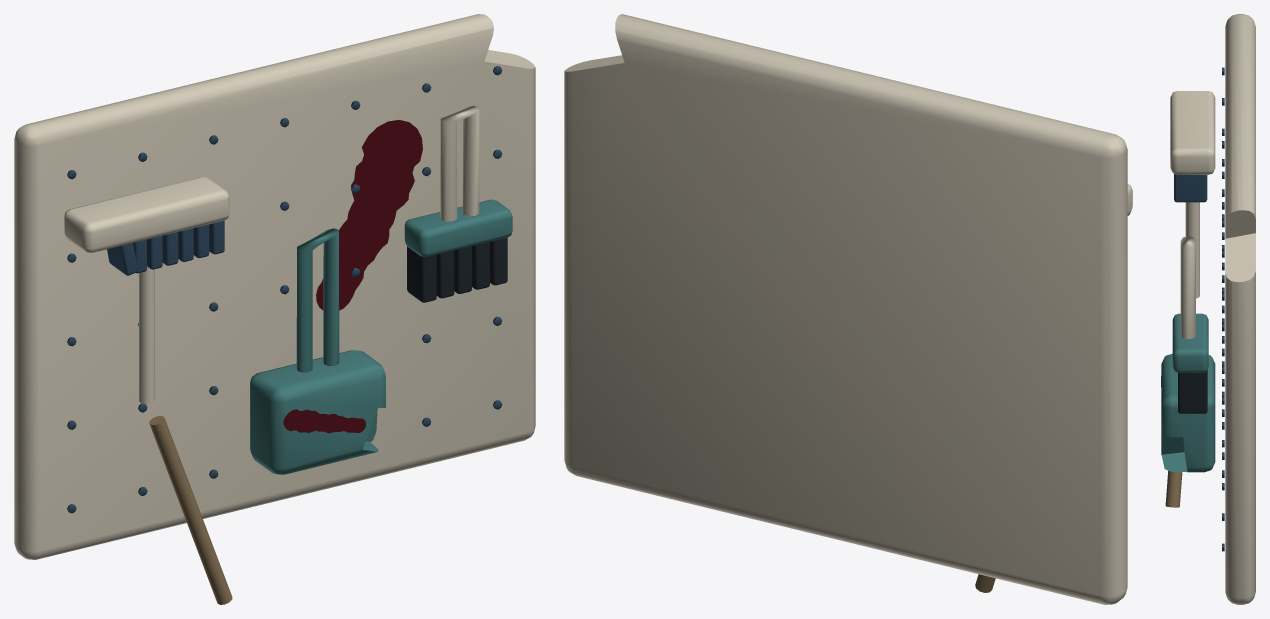
The model's file is toolboard.glb.
3 renders of one model, left to right at view 1: azimuth 30°, elevation 25°; view 2: azimuth 150°, elevation 25°; view 3: azimuth 270°, elevation 25°, orthographic. The views are drawn at different scales.
Visible parts, largest first — view 1: OB_UtilityToolboard_01_Static; view 2: OB_UtilityToolboard_01_Static; view 3: OB_UtilityToolboard_01_Static.
Part boxes in pixels (left/top/right/bottom): OB_UtilityToolboard_01_Static: left=14, top=14, right=535, bottom=604; OB_UtilityToolboard_01_Static: left=564, top=14, right=1132, bottom=604; OB_UtilityToolboard_01_Static: left=1161, top=14, right=1255, bottom=604.
Bounding box in the file's own units: 1.16 × 1.05 × 0.2106.
